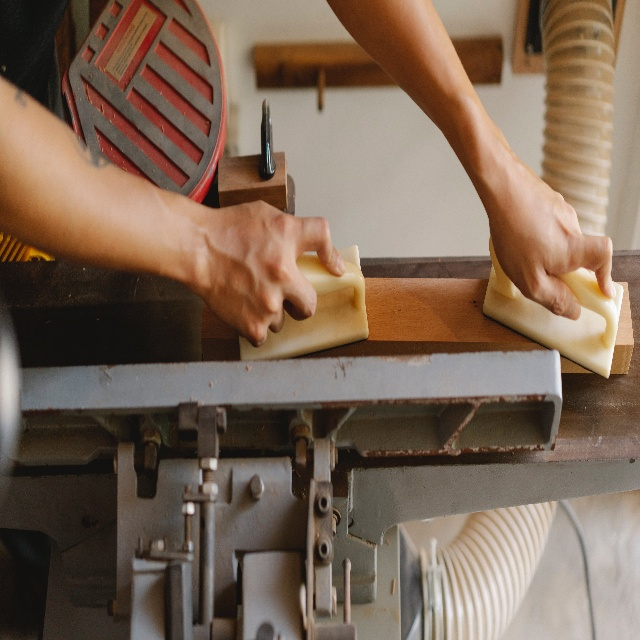Sin_guantes: (194, 200, 345, 348), (488, 156, 616, 322)
